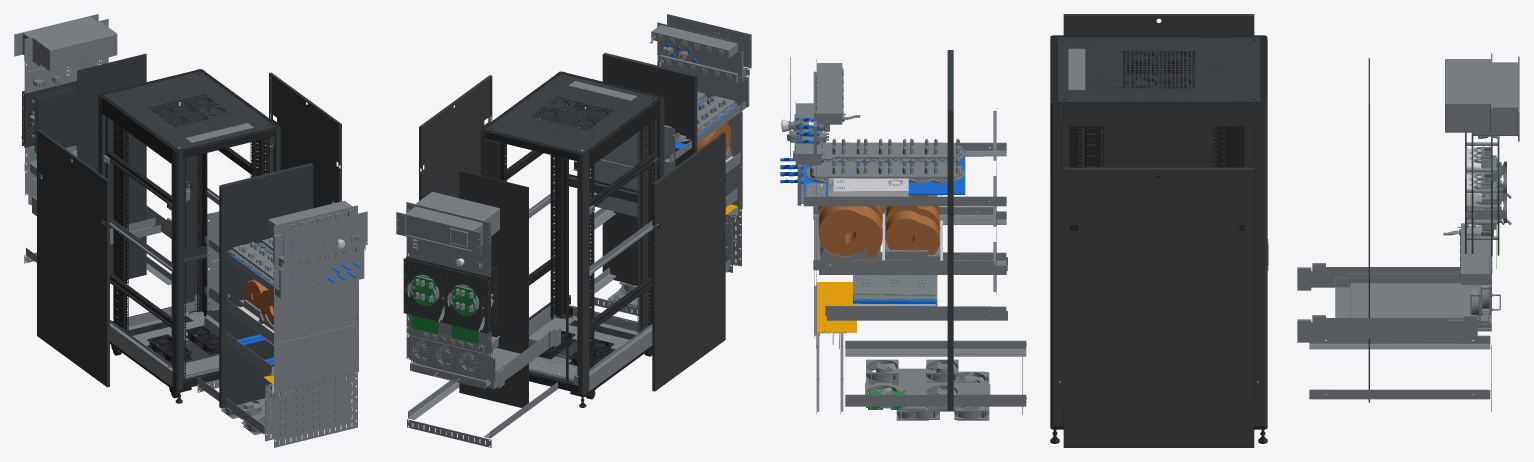
File: power-supply-exploded.glb
3 views of the same model, side by side, from view 1: azimuth 30°, elevation 25°; view 2: azimuth 150°, elevation 25°; view 3: azimuth 270°, elevation 25° (orthographic). The views are drawn at different scales.
Size of the model in its own units: 1.35 by 1.39 by 2.72.
